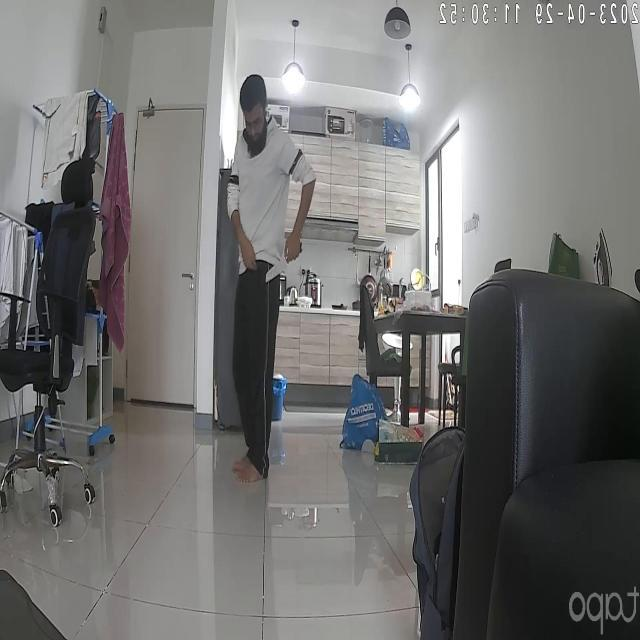Knife: (262, 242, 310, 286)
